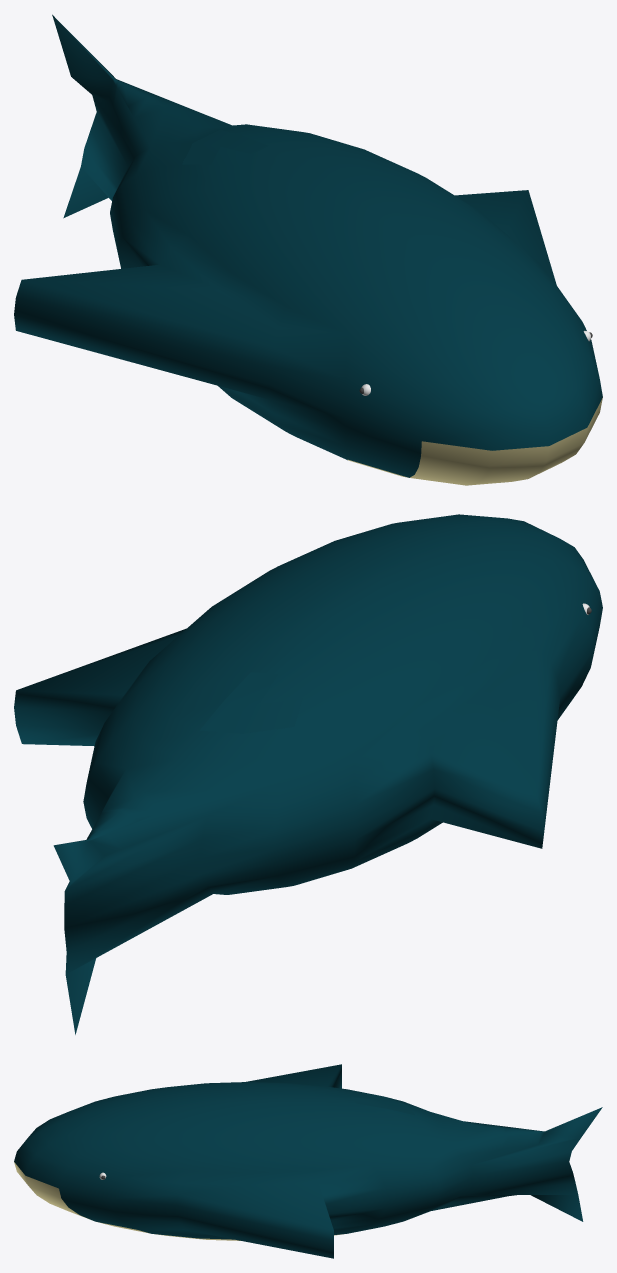
File: Whale.fbx
3 renders of one model, top to bottom at view 1: azimuth 30°, elevation 25°; view 2: azimuth 150°, elevation 25°; view 3: azimuth 270°, elevation 25°, orthographic. The views are drawn at different scales.
Visible parts, largest first — view 1: pSphere60; view 2: pSphere60; view 3: pSphere60.
Part boxes in pixels (<box>): pSphere60: <box>14,14,602,485</box>; pSphere60: <box>14,514,602,1034</box>; pSphere60: <box>14,1064,602,1258</box>.
Bounding box in the file's own units: 6.1 × 2.46 × 10.
